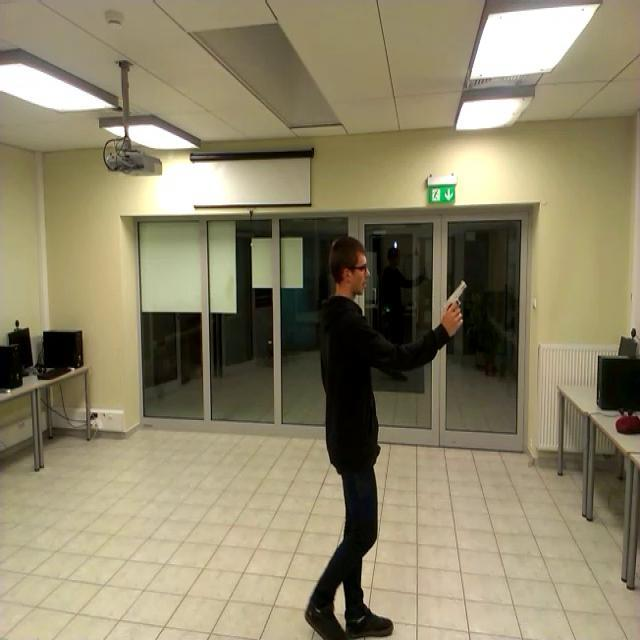gun-knife-thesis - v11 Yolov5 augmented: (431, 272, 469, 328)
